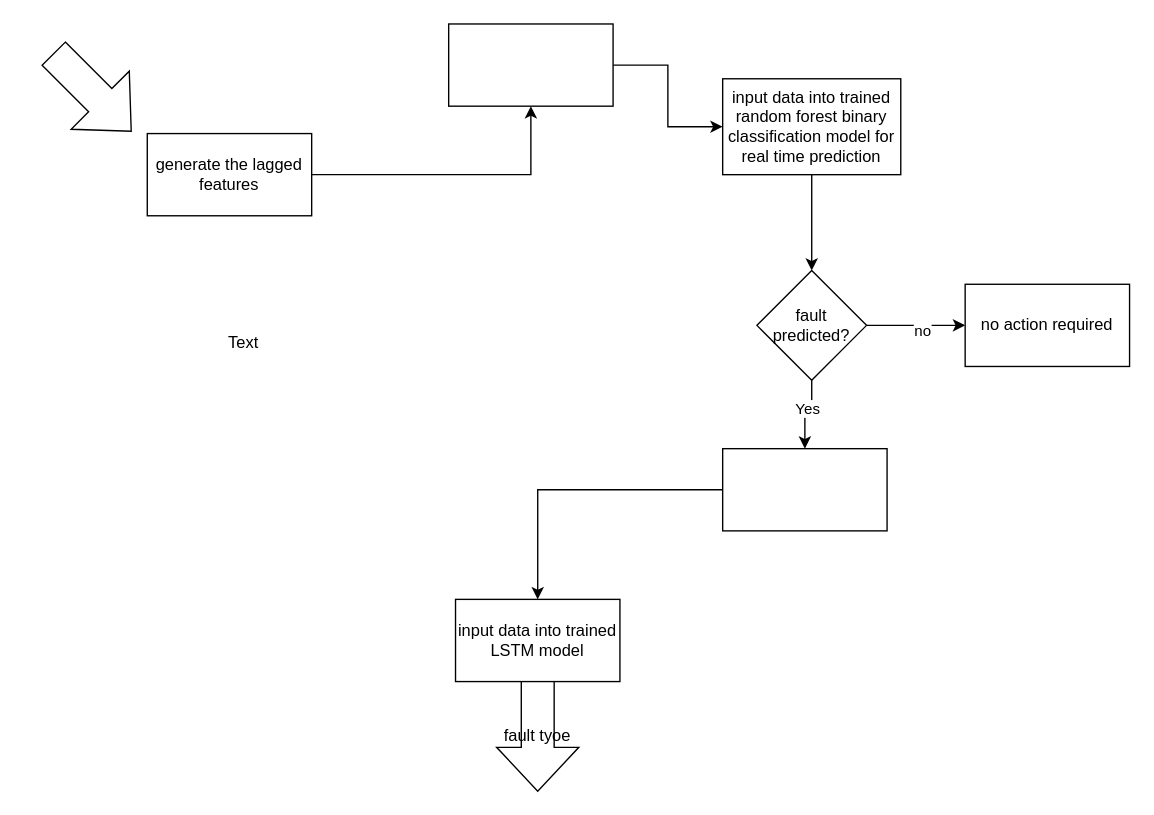
Image size: 1154x815. Some labels were removed from this diagram. Here are the shapes that lost their labels. From the top down, the centre of each, then its label:
point 530,64: generate the lagged features and apply Fourier transform
point 92,92: Sensor Data time series (need at least 8 samples)
point 804,489: data prepossessing for fault classification model convert into input for LSTM
